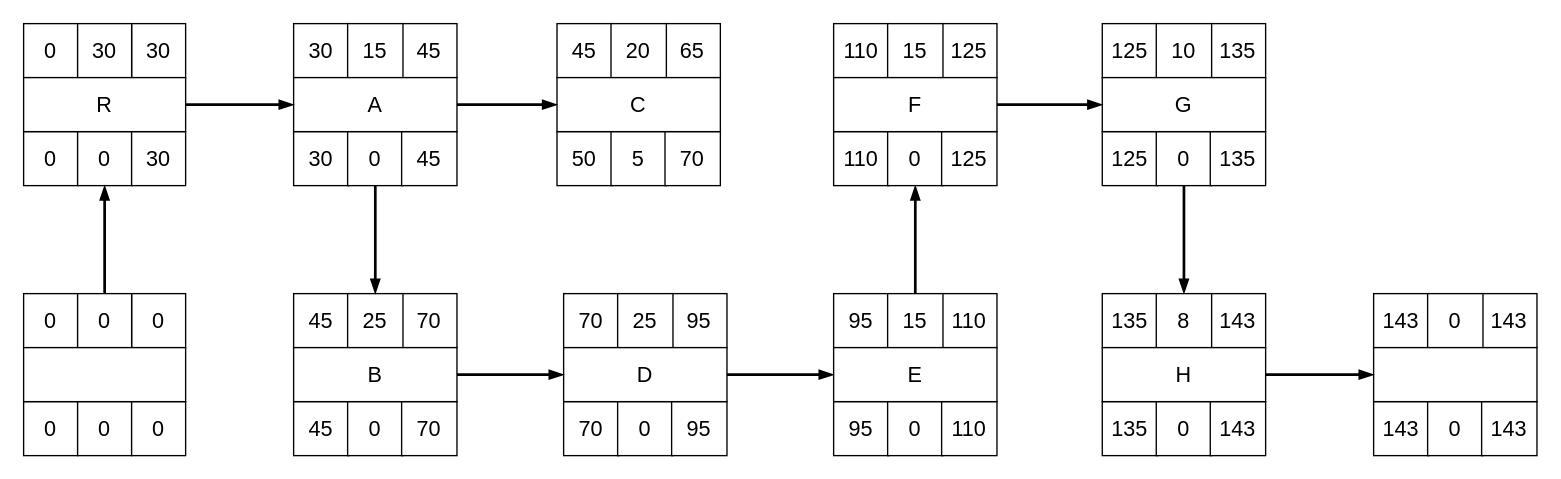
The diagram is 1561 pixels wide and 479 high, and some of its shapes have lost their labels. The box of each missing label's shape, as (x1, y1, x2, y2) in pixels:
FIN: (1372, 346, 1537, 402)
INICIO: (22, 346, 186, 402)
